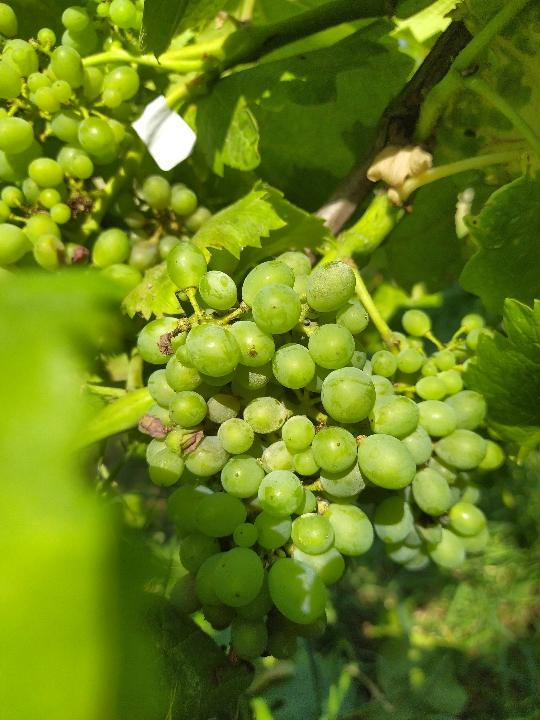grape: (133, 239, 505, 665)
